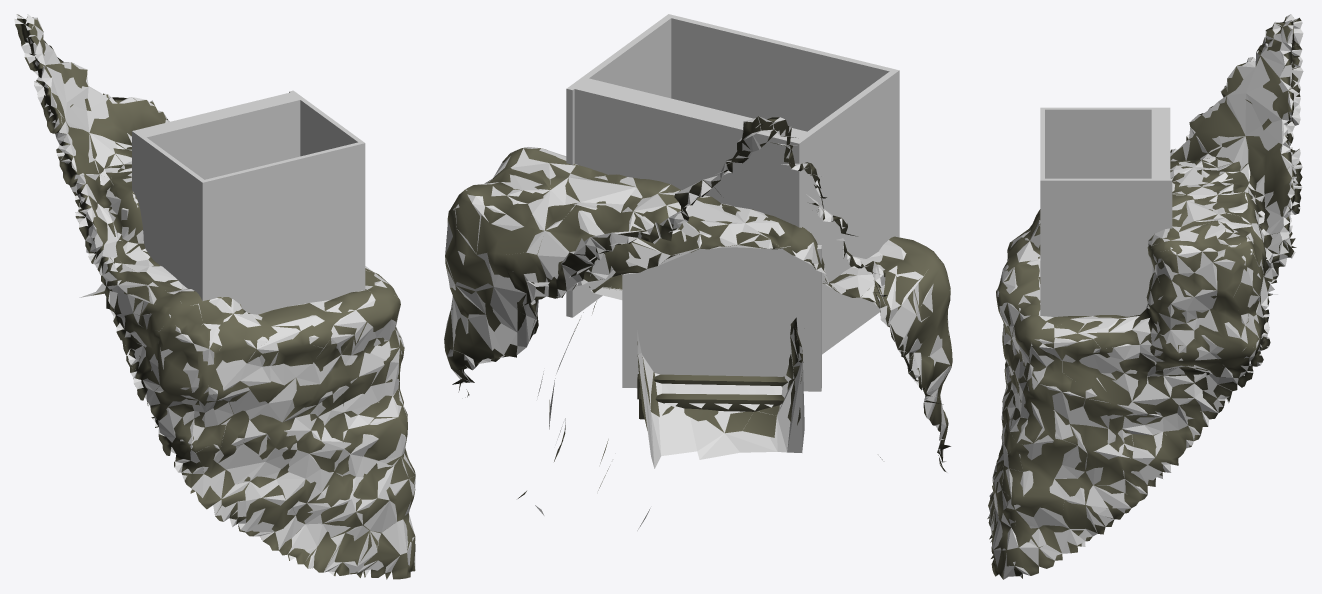
3 renders of one model, left to right at view 1: azimuth 30°, elevation 25°; view 2: azimuth 150°, elevation 25°; view 3: azimuth 270°, elevation 25°, orthographic. The views are drawn at different scales.
Visible parts, largest first — view 1: outcrop_rock, outcrop_rails_col, outcrop_col; view 2: outcrop_rails_col, outcrop_rock, outcrop_col, outcrop_mouth_plug_col; view 3: outcrop_rock, outcrop_col, outcrop_rails_col.
Boxes of the visible parts, bbox=[...] form: outcrop_rock: bbox=[15, 14, 415, 579]; outcrop_rails_col: bbox=[132, 90, 365, 314]; outcrop_col: bbox=[14, 14, 415, 576]; outcrop_rails_col: bbox=[566, 14, 899, 354]; outcrop_rock: bbox=[444, 116, 952, 498]; outcrop_col: bbox=[445, 116, 951, 530]; outcrop_mouth_plug_col: bbox=[622, 245, 821, 391]; outcrop_rock: bbox=[987, 16, 1302, 579]; outcrop_col: bbox=[988, 14, 1303, 579]; outcrop_rails_col: bbox=[1040, 107, 1172, 316].
Size of the model in its own units: 18.29 by 32.52 by 20.64.
